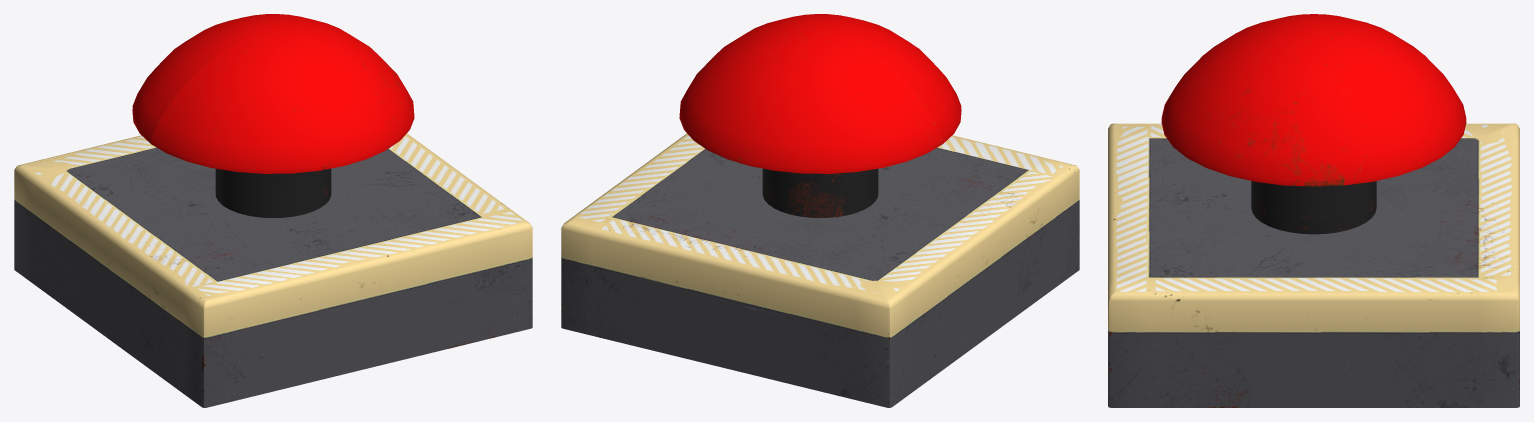
Rendered from button.fbx.
The picture shows the model from 3 angles, left to right: view 1: azimuth 30°, elevation 25°; view 2: azimuth 150°, elevation 25°; view 3: azimuth 270°, elevation 25°; orthographic projection. The views are drawn at different scales.
Visible parts, largest first — view 1: Cube, Cube.001; view 2: Cube, Cube.001; view 3: Cube, Cube.001.
Boxes of the visible parts, x1,y1,x2,y2 form: Cube: (14,133,532,407); Cube.001: (132,14,414,217); Cube: (561,133,1079,407); Cube.001: (679,14,961,217); Cube: (1108,123,1519,407); Cube.001: (1161,14,1466,234).
Size of the model in its own units: 60 by 46.81 by 60.
